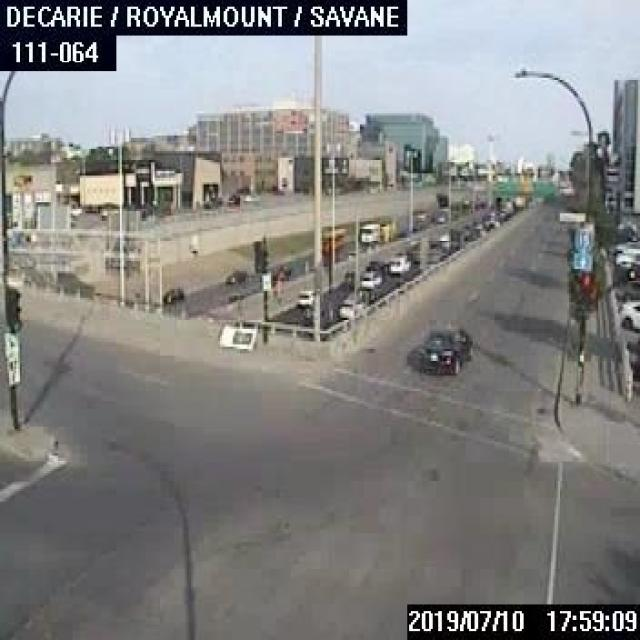bus: (318, 225, 347, 251)
vehicle: (414, 326, 470, 374), (336, 288, 365, 318), (616, 296, 638, 331), (614, 277, 638, 299), (613, 247, 638, 266), (359, 220, 381, 241), (388, 252, 408, 274), (359, 270, 381, 288), (162, 285, 184, 302), (295, 286, 312, 308), (223, 268, 246, 284), (622, 259, 638, 280)
